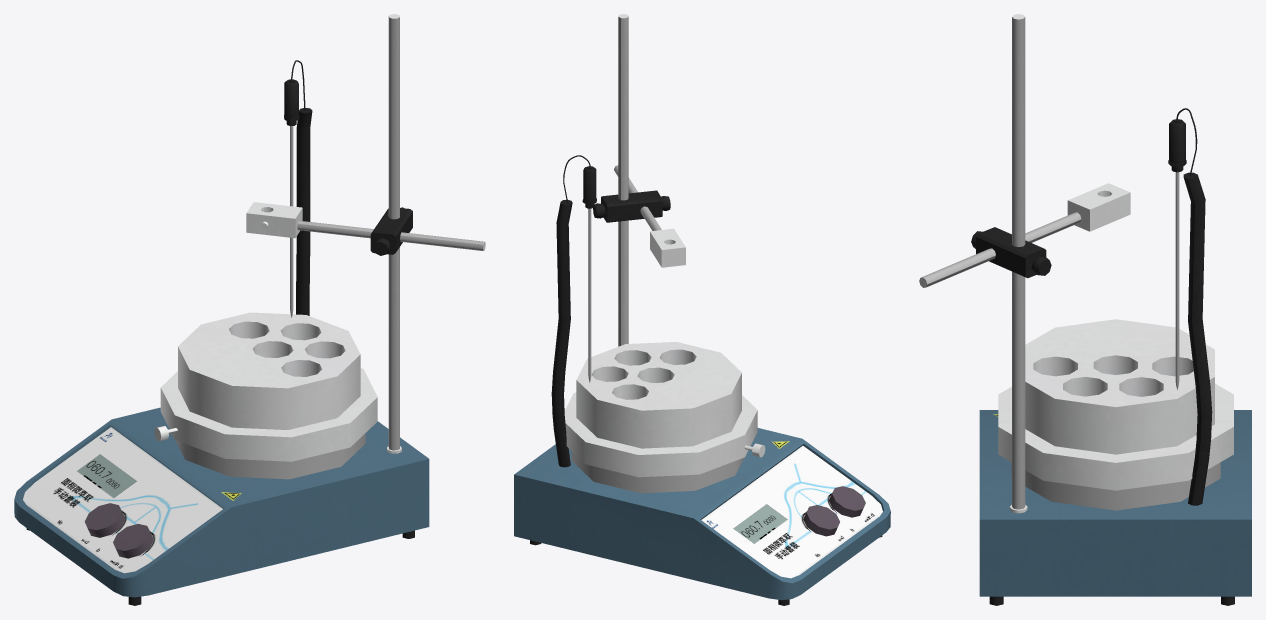
File: SM_固相微萃取装置.fbx
The picture shows the model from 3 angles, left to right: view 1: azimuth 30°, elevation 25°; view 2: azimuth 150°, elevation 25°; view 3: azimuth 270°, elevation 25°; orthographic projection. The views are drawn at different scales.
Visible parts, largest first — view 1: SM_固相微萃取装置; view 2: SM_固相微萃取装置; view 3: SM_固相微萃取装置.
Boxes of the visible parts, box(x1,y1,x2,y2) form: SM_固相微萃取装置: box(14, 14, 485, 605); SM_固相微萃取装置: box(514, 14, 890, 605); SM_固相微萃取装置: box(919, 14, 1251, 605).
Size of the model in its own units: 0.2244 by 0.3276 by 0.1694.
